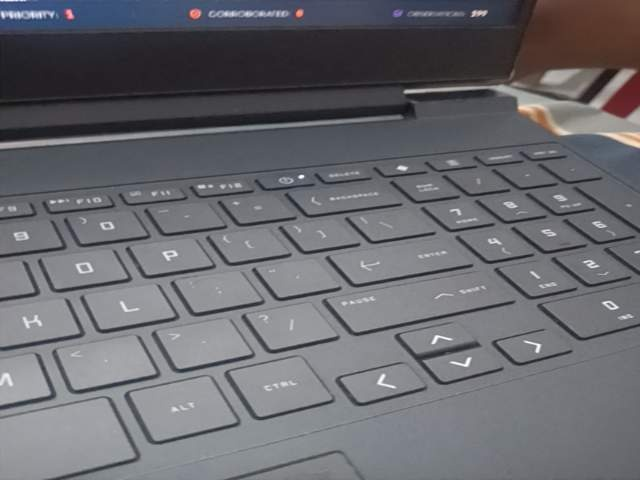pothole: (106, 403, 316, 480), (536, 403, 640, 480)
